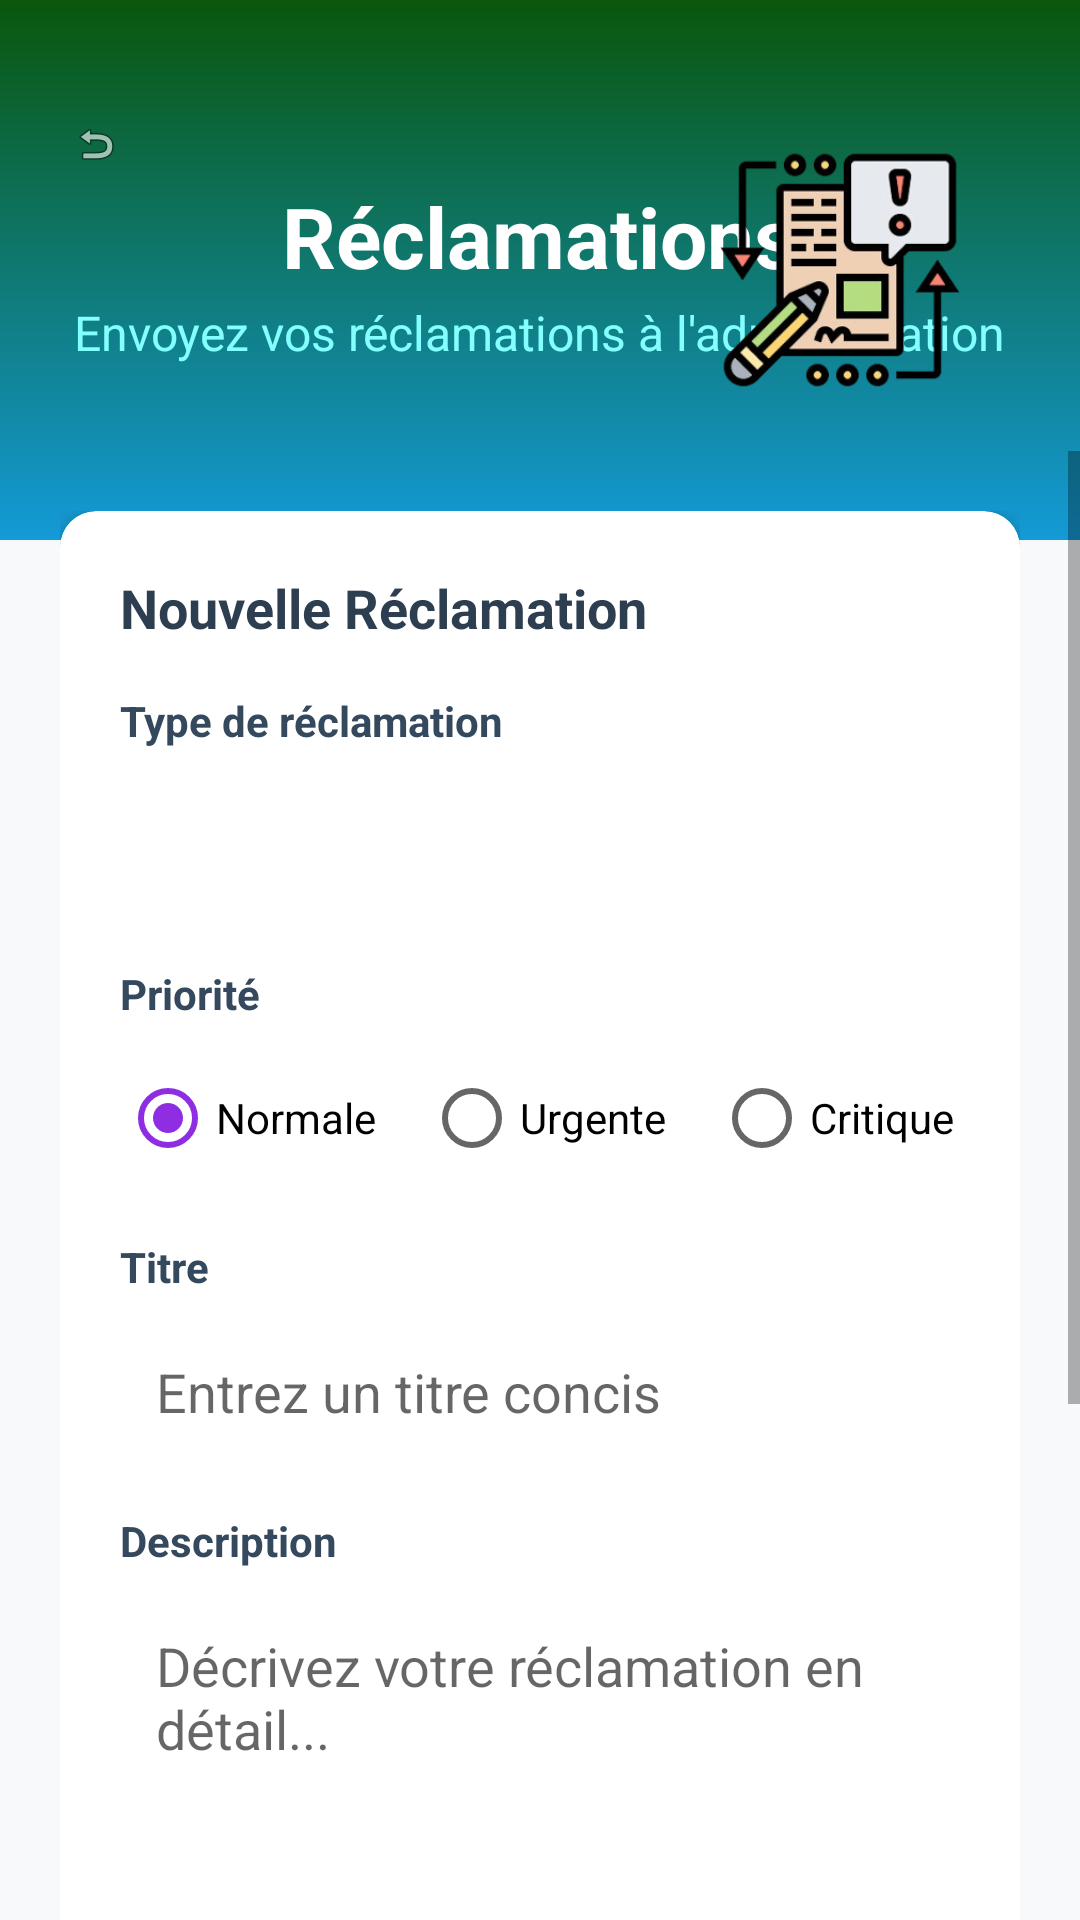

Icons on this 1080*1920 Android screen, each with the point to tap as (x=x, y=y):
Reclamation icon: (x=840, y=270)
Retour: (x=96, y=153)
